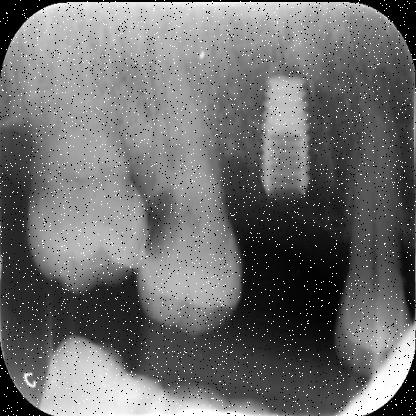Bicon: (258, 65, 318, 201)
